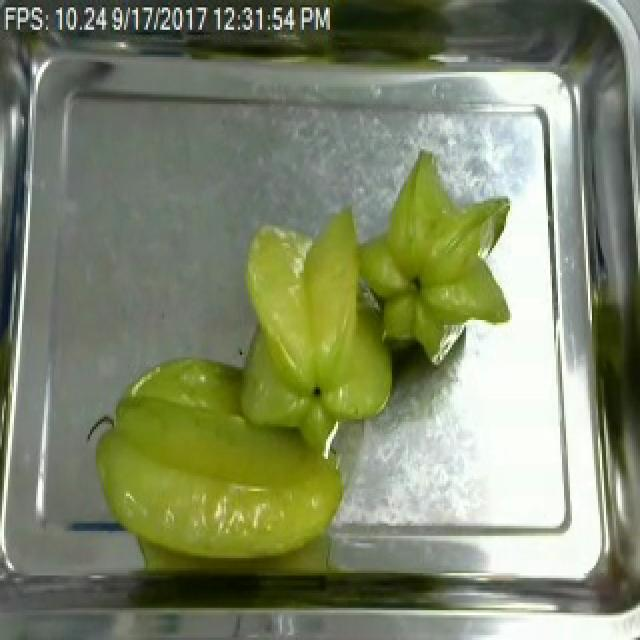fruit: (82, 347, 352, 578), (228, 204, 406, 436), (374, 142, 524, 338)
